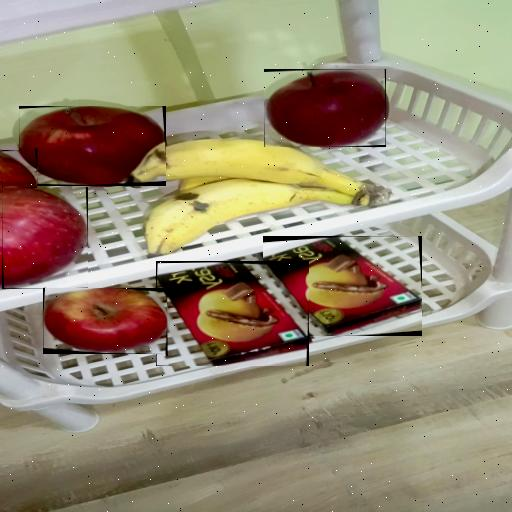Apple: (19, 106, 166, 186), (264, 69, 386, 147), (2, 187, 88, 289), (43, 288, 167, 354), (2, 150, 37, 188)
Choco Fills: (156, 261, 309, 366), (263, 236, 422, 336)
